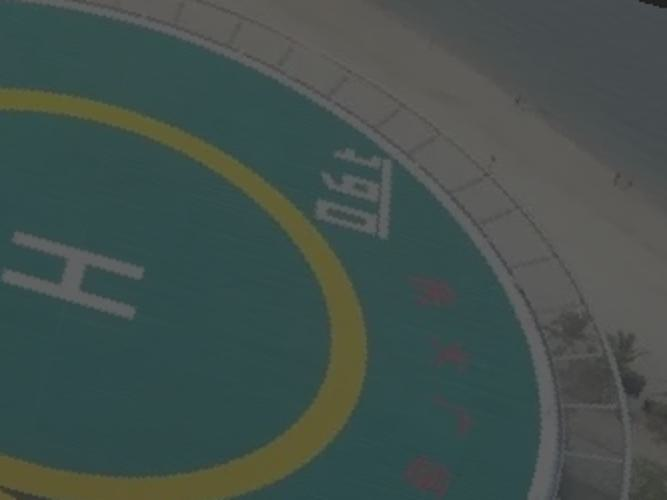Apron: (1, 71, 417, 499)
